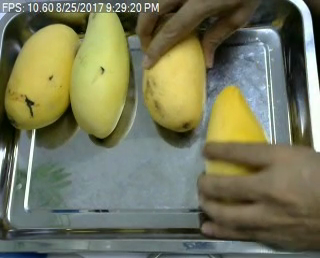Mango: (4, 23, 81, 130), (70, 1, 129, 138), (142, 11, 205, 132), (206, 87, 271, 194)
